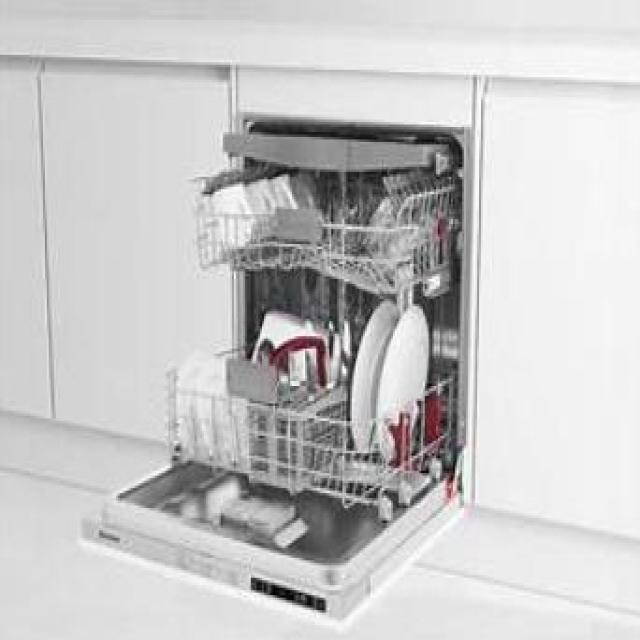dishwasher: (77, 72, 475, 625)
